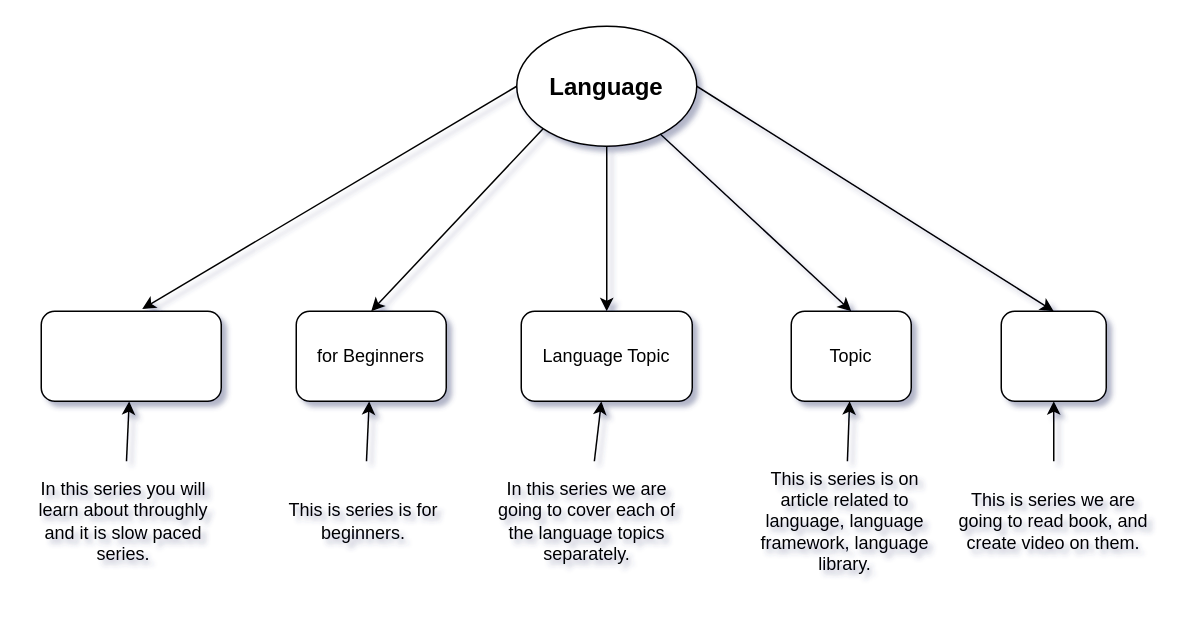
Some shapes in this 1185 by 617 pixel diagram are drawn without their labels. Each missing label, with the centre of its shape:
"Books" goes at (x=1053, y=355).
"Learning Language" goes at (x=130, y=355).
